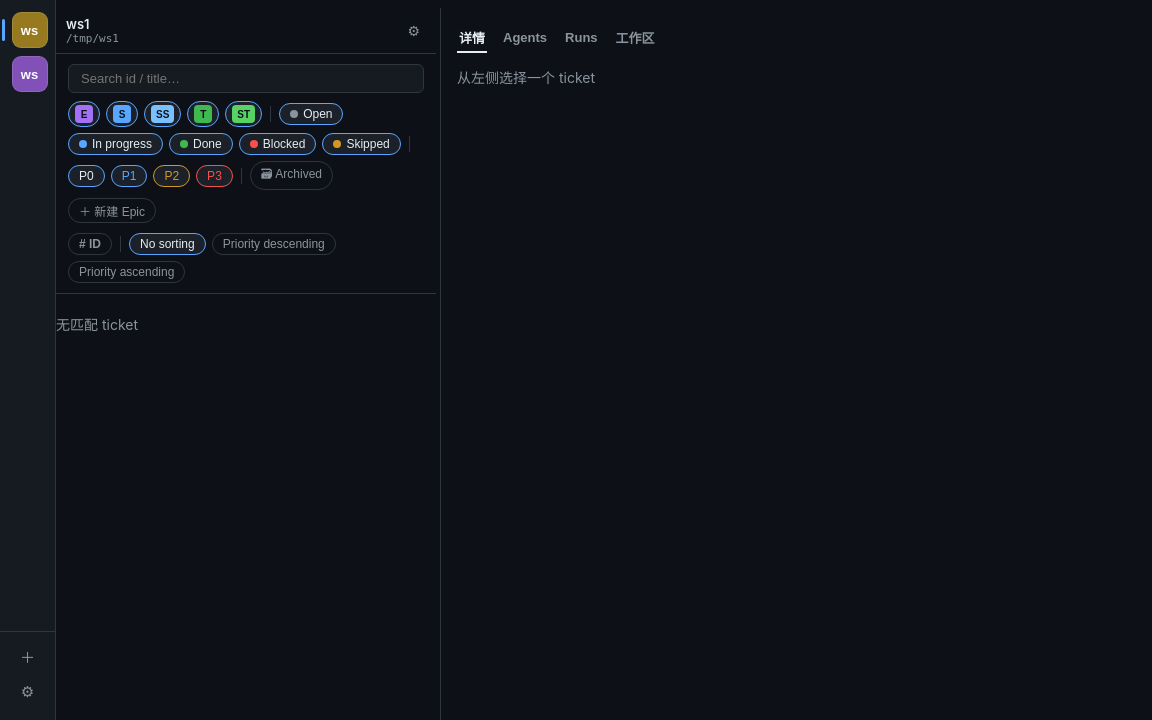
Test: U1 懒声明失败（QUOTA_EXCEEDED） › 声明被配额拒绝：图标错误态，提示文案点名配额；当前选中不变
The image size is (1152, 720).
Click the 2nd button titled "ws2（/tmp）" at (30, 74), box [12, 56, 48, 92]
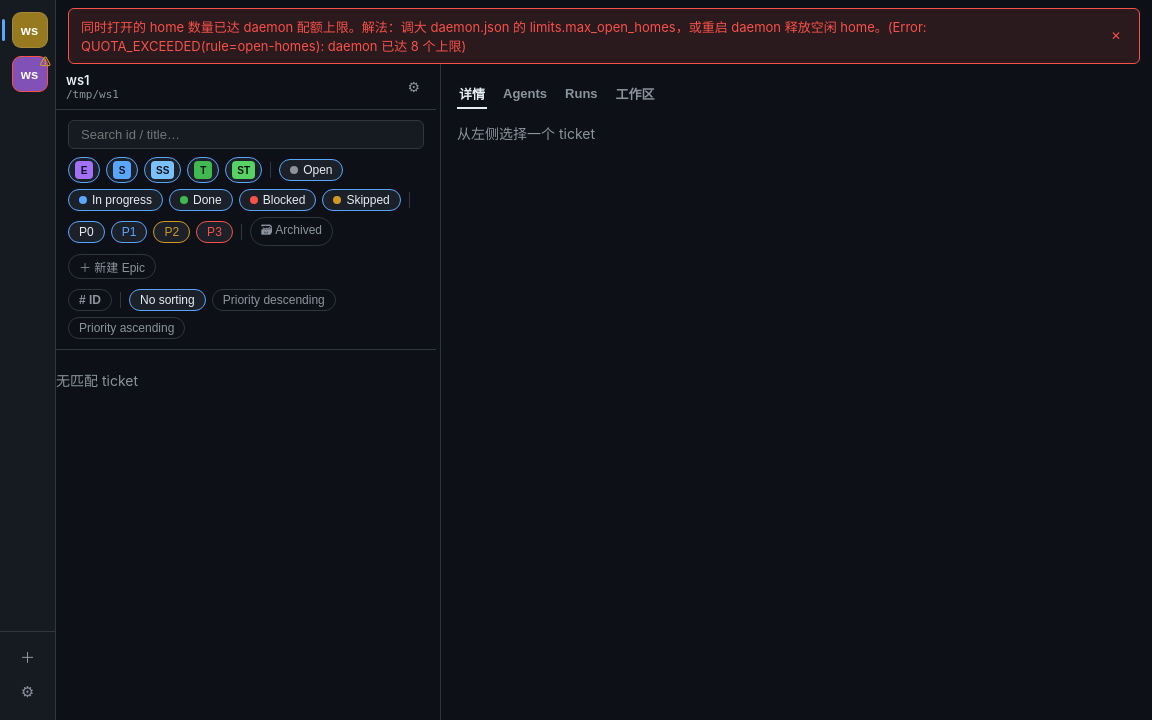
Expected: the text with class "workspace-name" reads "ws1", [66, 72, 90, 88]
Expected: the message shows "配额", [68, 8, 1140, 64]
Click the button named "关闭工作区提示" at (1116, 36), box [1105, 27, 1127, 45]
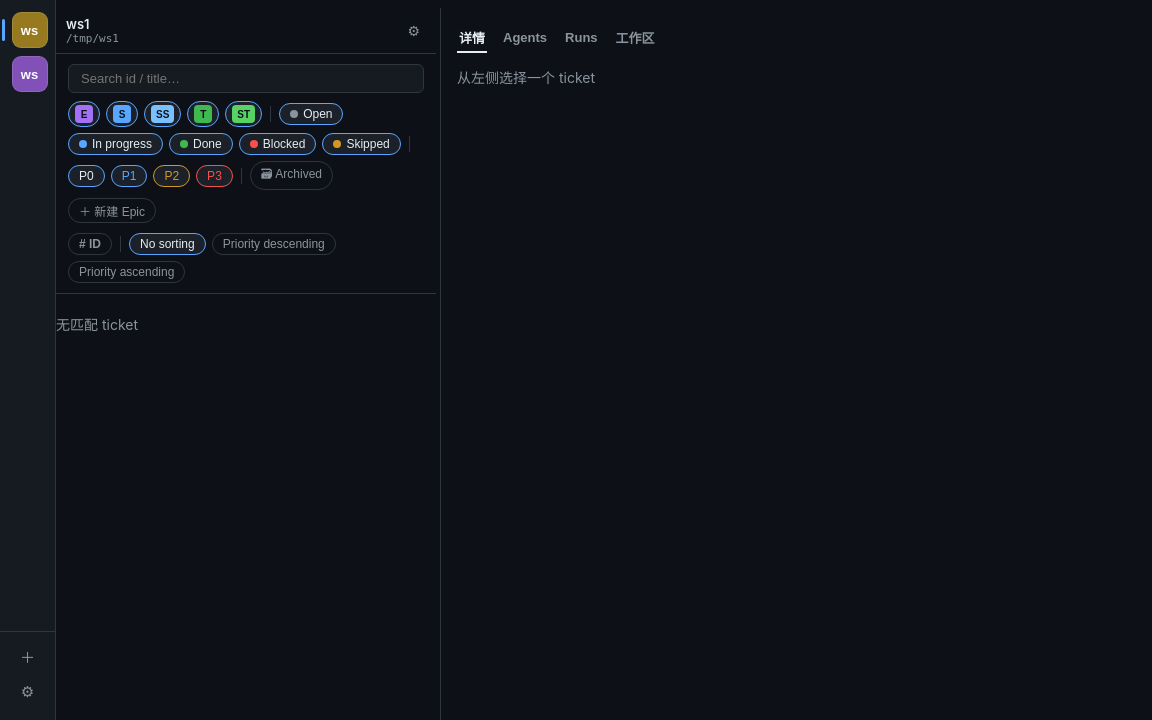
Expected: the message with class "workspace-error-banner" is gone
